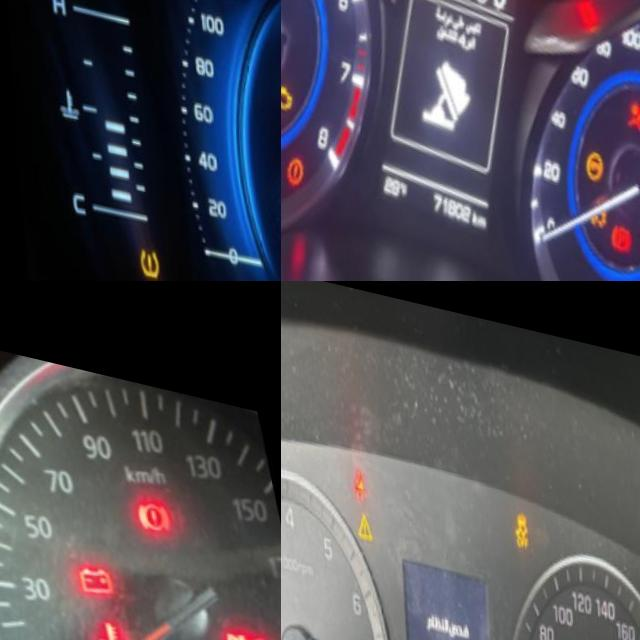Engine cooling system: (86, 589, 129, 640)
Seat Belt: (349, 451, 365, 493)
